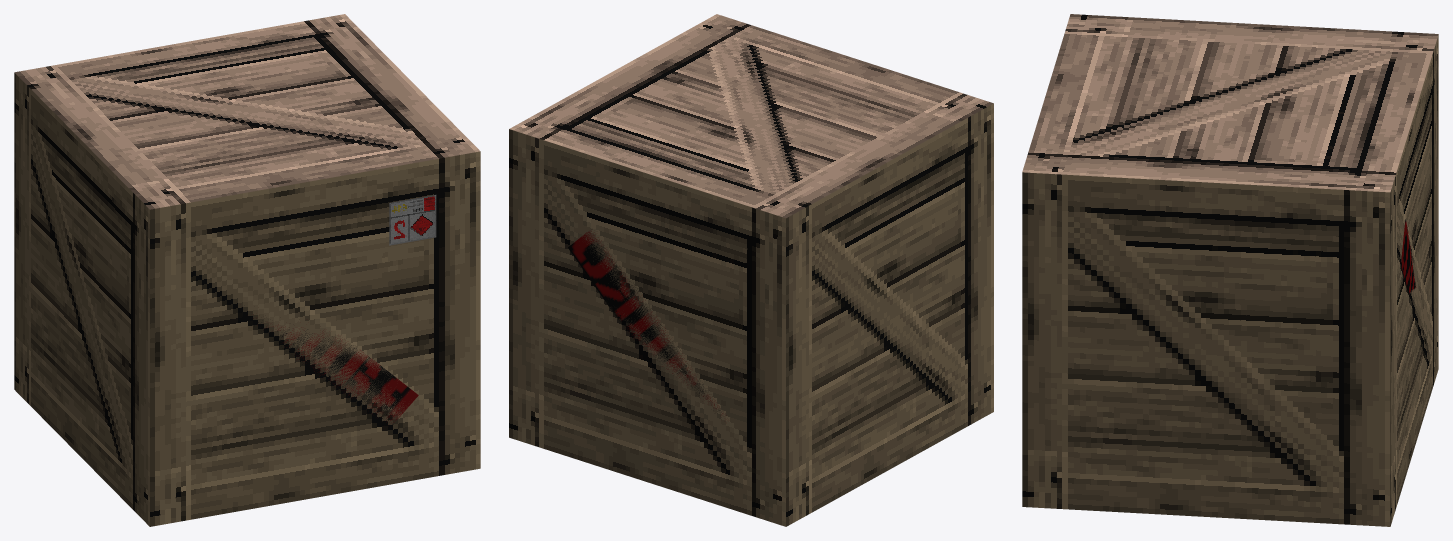
Rendered from train_wooden_crate_7.glb.
3 views of the same model, side by side, from view 1: azimuth 30°, elevation 25°; view 2: azimuth 150°, elevation 25°; view 3: azimuth 270°, elevation 25° (orthographic). The views are drawn at different scales.
Visible parts, largest first — view 1: Object; view 2: Object; view 3: Object.
Boxes of the visible parts, bbox=[...] form: Object: bbox=[14, 14, 480, 526]; Object: bbox=[509, 14, 993, 526]; Object: bbox=[1022, 14, 1438, 526].
Size of the model in its own units: 1.55 by 1.36 by 1.53.
7 materials, 7 textured.
